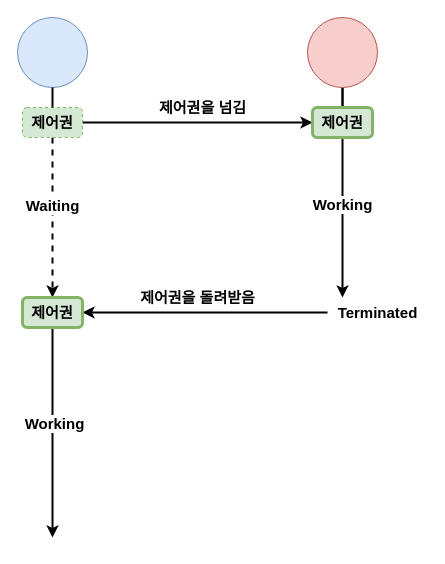
Some shapes in this 445 by 564 pixel diagram are drawn without their labels. Here are the shapes that lost their labels. From the top down, the box of each, then its label:
(16, 16, 88, 88): Main
(306, 16, 378, 88): Sub
